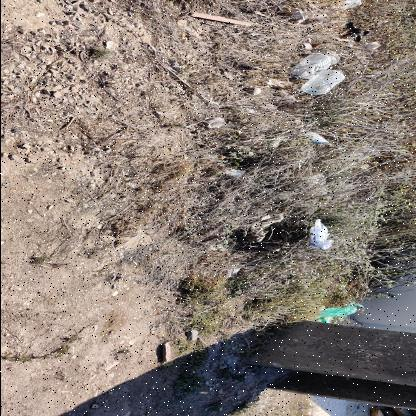cardboard: (202, 117, 226, 128)
plastic: (288, 50, 338, 80), (300, 69, 344, 95), (312, 304, 366, 323), (304, 219, 336, 250)
